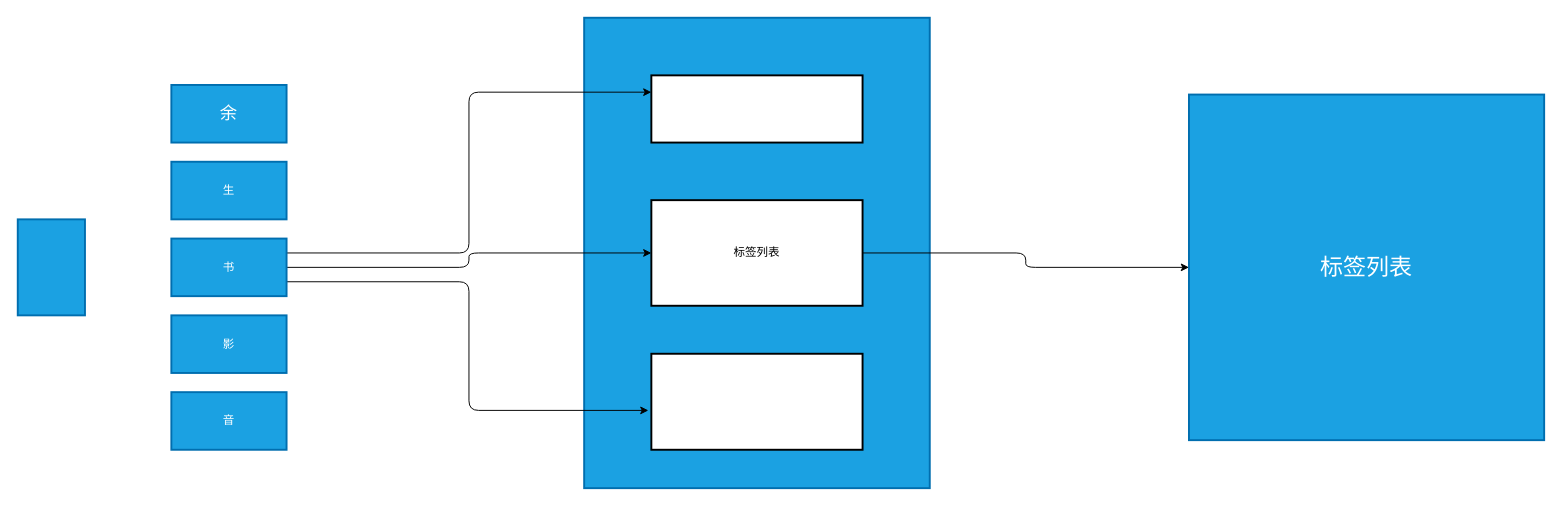
Image size: 1561x505. Some labels were removed from this diagram. The shapes that lost their labels are listed below. From the top down, each one's centre as x and y in pixels, then its label:
At point (756, 108): "标题栏".
At point (50, 267): "APP".
At point (756, 401): "正文".
